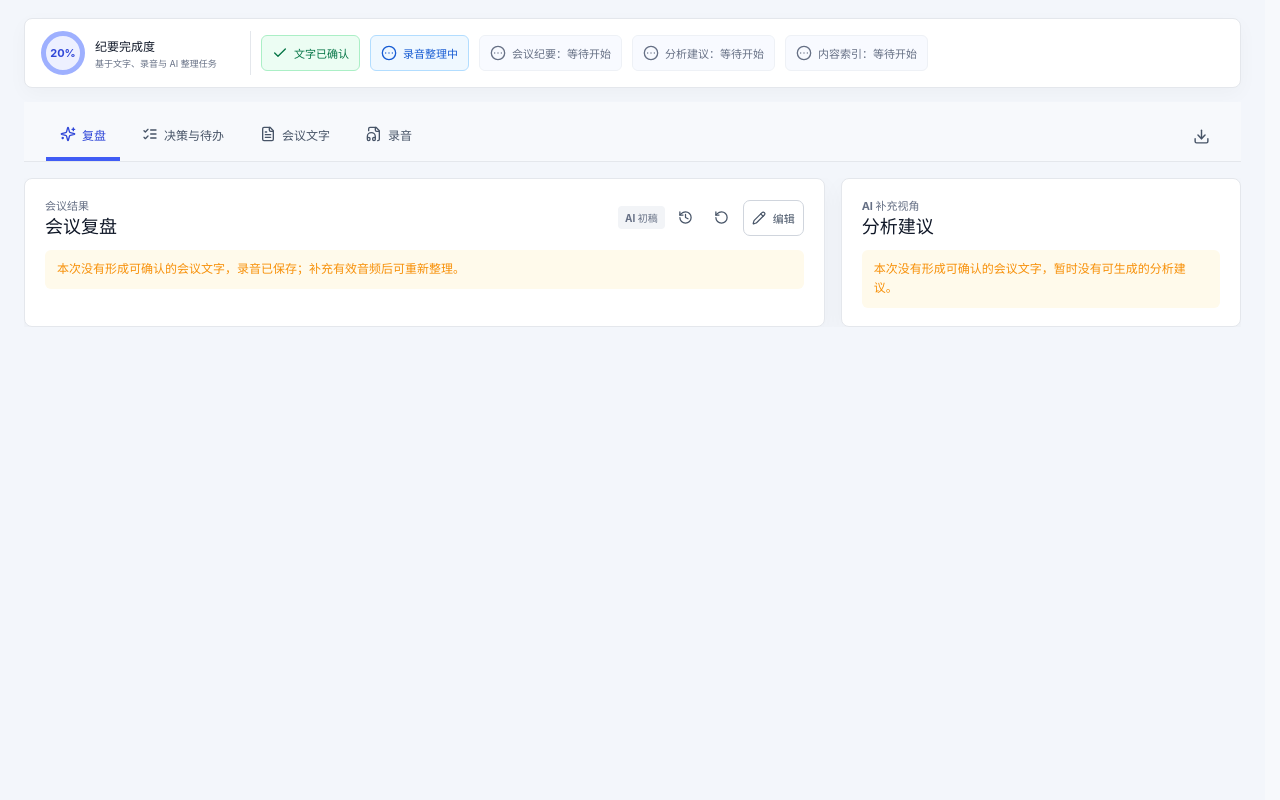
Test: ReviewWorkspace recording tracks › explains partial failure without presenting it as a complete meeting replay
What coordinates should you click on to do the following:
click the tab "录音"
I would click on:
 (389, 135)
Its box is [352,109,426,161].
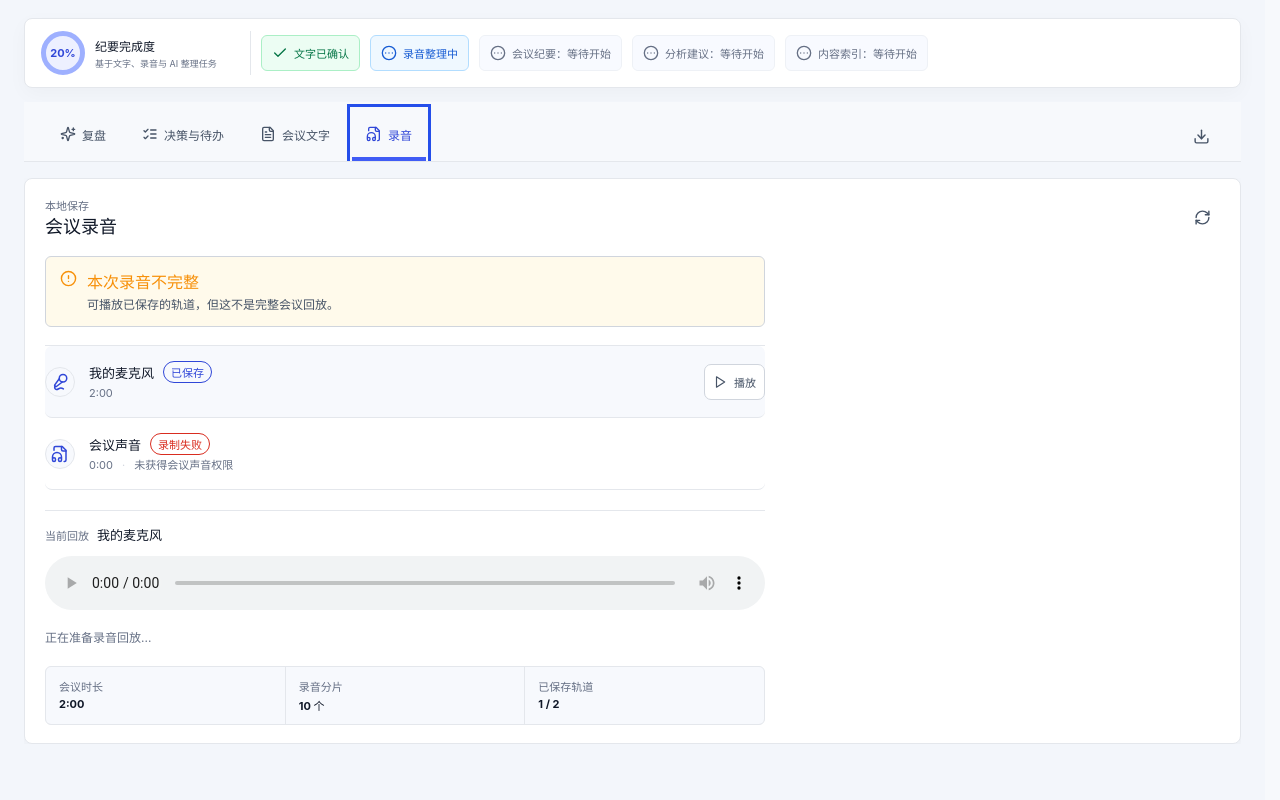
Expected: the text "本次录音不完整" is shown, [87,272,199,292]
Expected: the text "未获得会议声音权限" is shown, [122,458,233,474]
Expected: the text "可播放已保存的轨道，但这不是完整会议回放。" is shown, [87,296,339,314]
